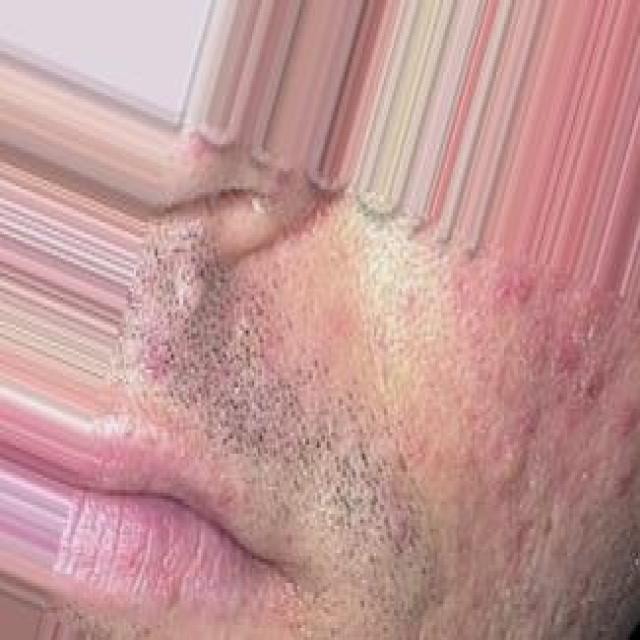Rosacea: (442, 258, 640, 555)
